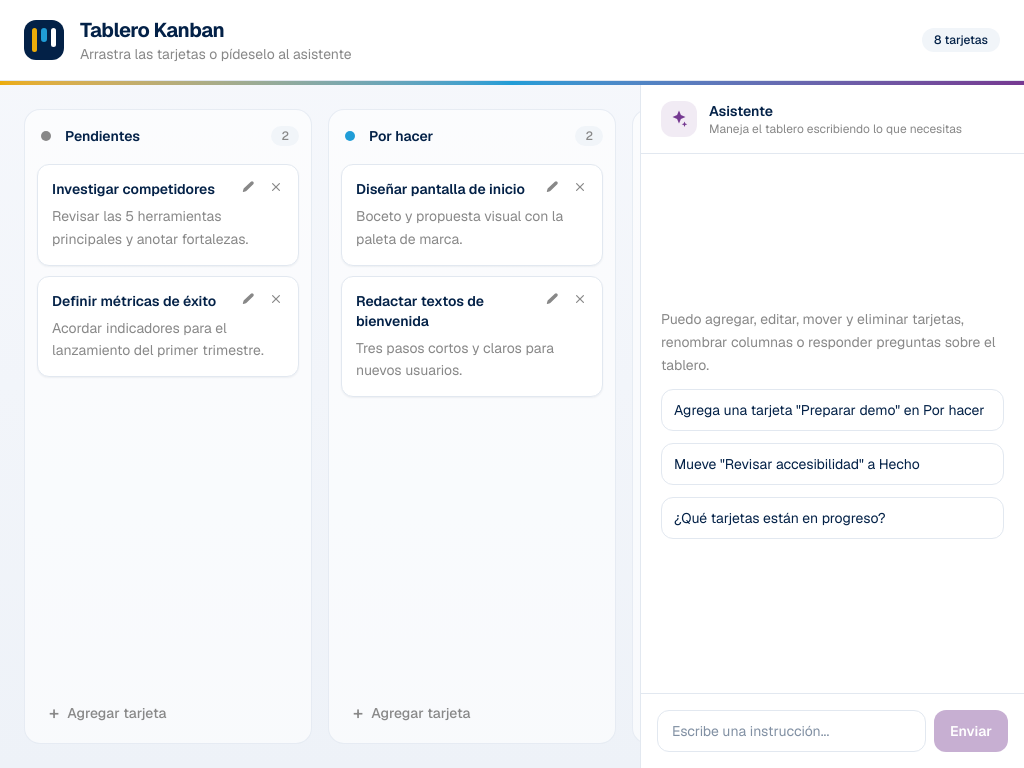
Test: Board › renombra una columna con Enter
Step 1. Click the button "Pendientes" → [161, 136], box [59, 122, 263, 150]
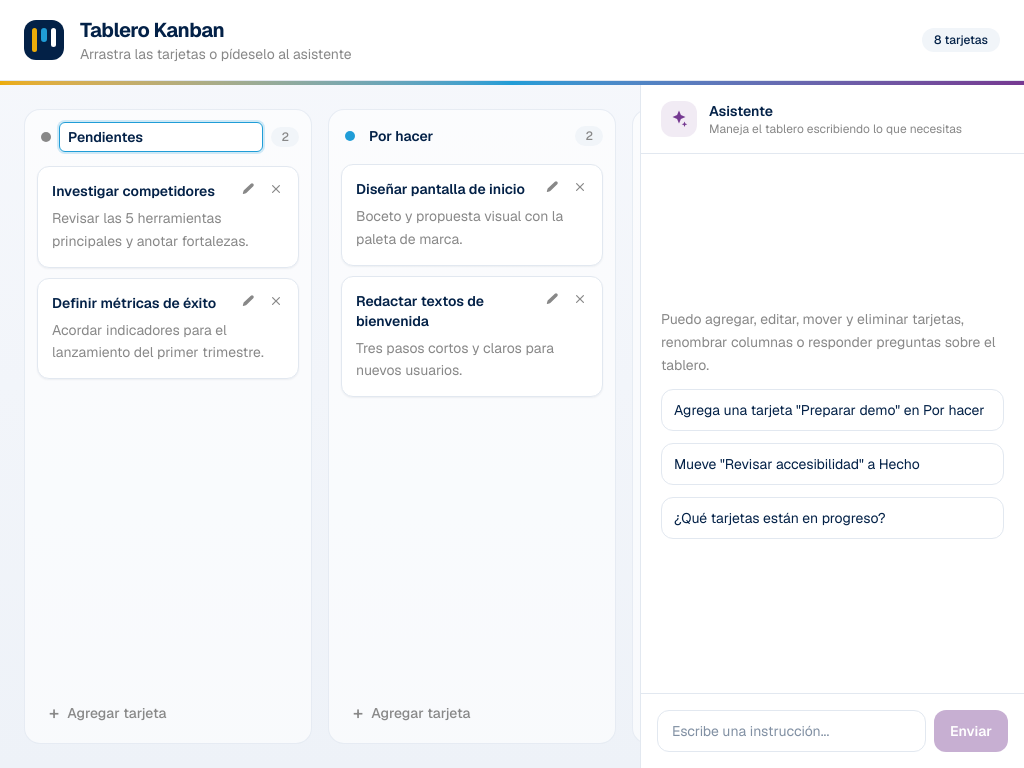
Step 2. Replace the text in the field named "Nombre de la columna" with "Ideas" → [161, 137], box [59, 122, 263, 152]
Then press Enter
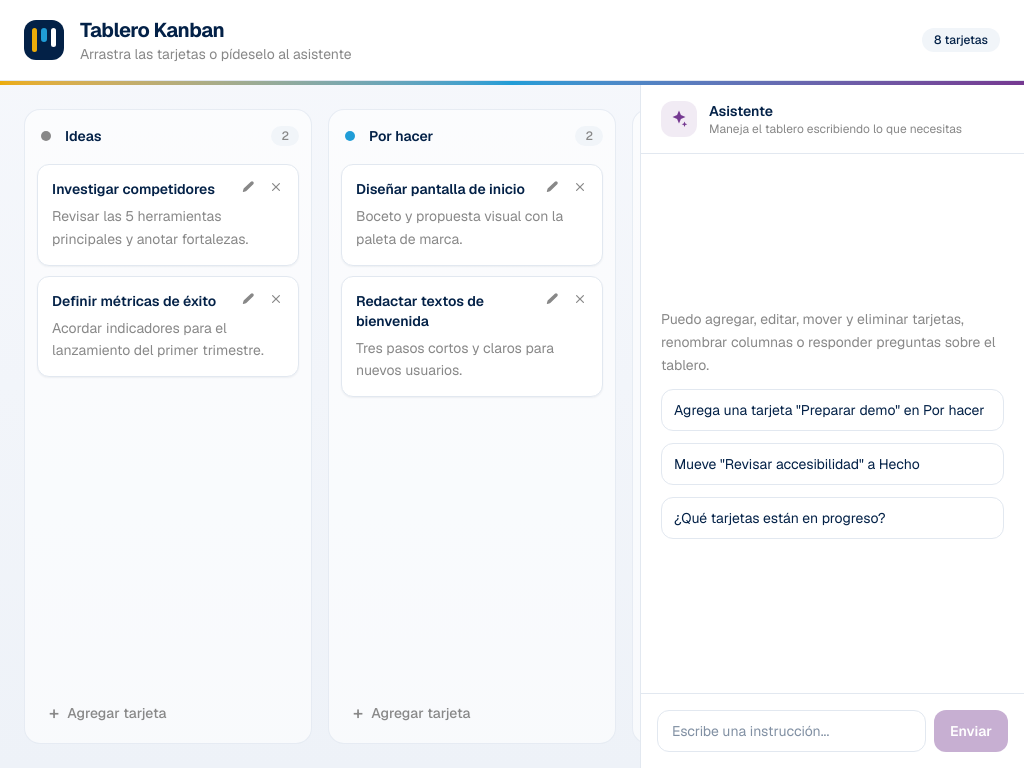
Expected: the button "Pendientes" is not shown
Now the button "Ideas" is shown, box [59, 122, 263, 150]
